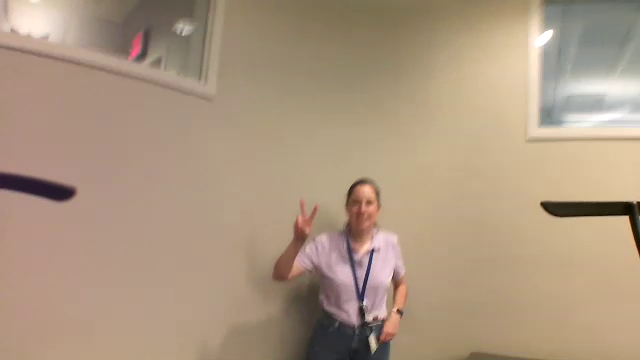peace: (289, 196, 322, 243)
